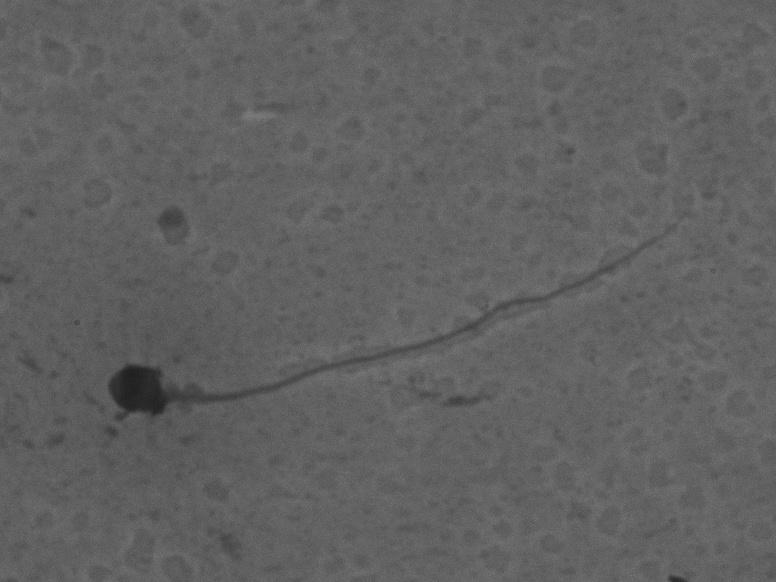Abnormal: (68, 170, 695, 439)
